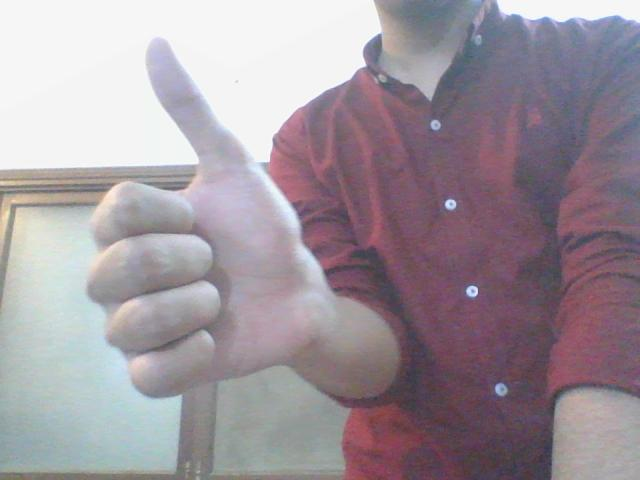thumbs-up: (81, 34, 303, 401)
